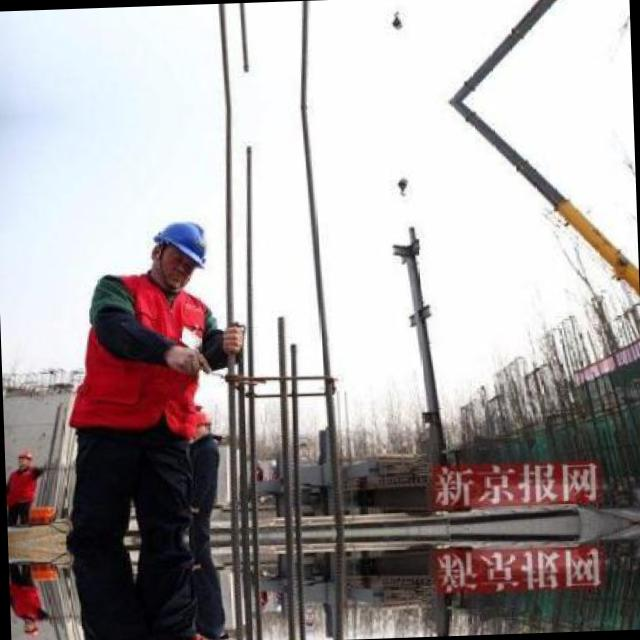helmet: (140, 212, 214, 294), (185, 408, 212, 438), (15, 445, 34, 469), (21, 617, 40, 640), (192, 634, 220, 640)
